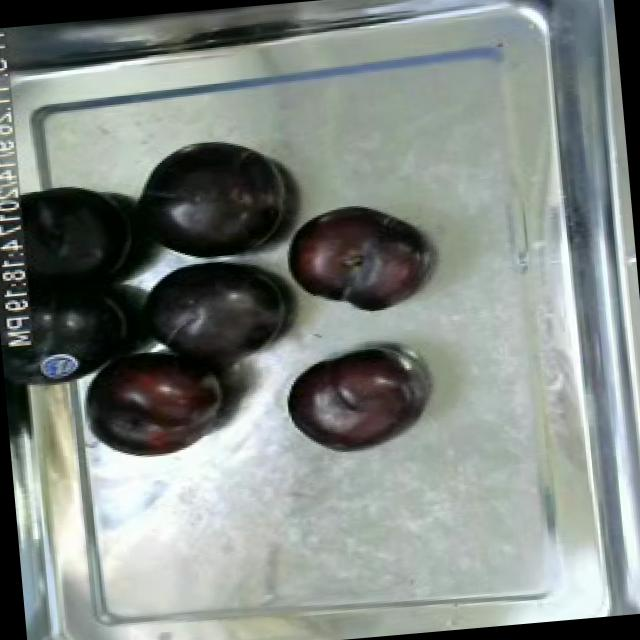Fruit: (113, 128, 294, 270), (125, 242, 302, 386), (272, 190, 436, 324), (76, 336, 240, 467), (276, 336, 428, 460)
